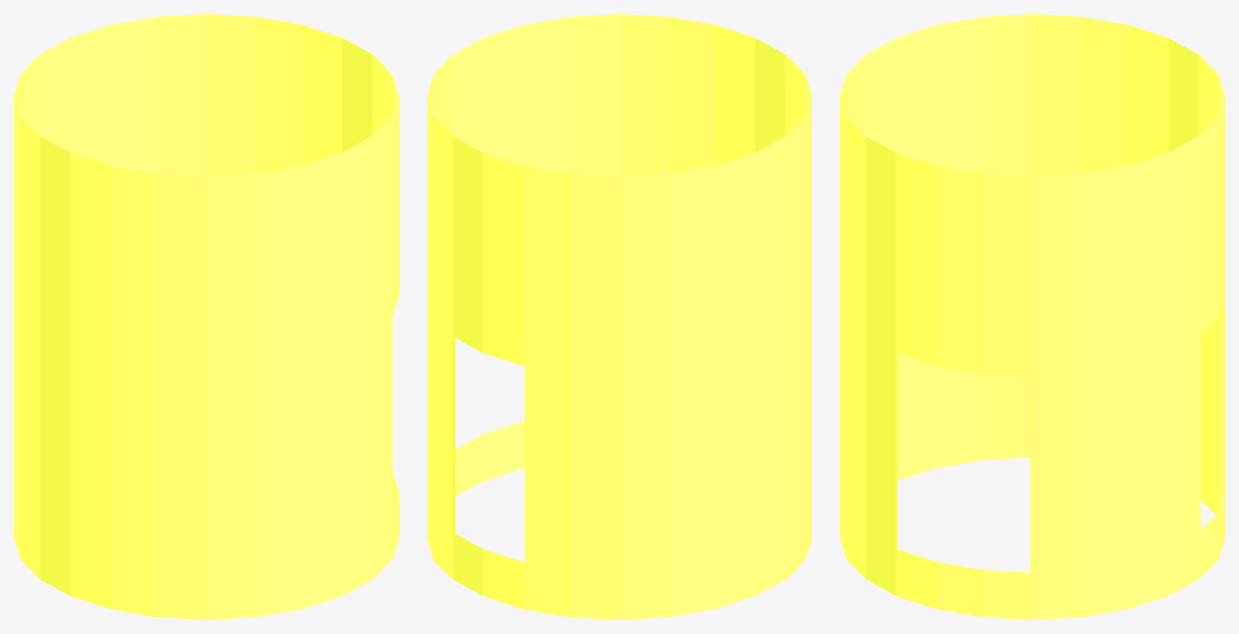
Rendered from Bedaux_1_Bedaux_Stijgerdoek_1.FBX.
3 views of the same model, side by side, from view 1: azimuth 30°, elevation 25°; view 2: azimuth 150°, elevation 25°; view 3: azimuth 270°, elevation 25° (orthographic).
Parts seen in each view (by area): view 1: Bedaux_1_Bedaux_Stijgerdoek_1; view 2: Bedaux_1_Bedaux_Stijgerdoek_1; view 3: Bedaux_1_Bedaux_Stijgerdoek_1.
Boxes of the visible parts, x1,y1,x2,y2 form: Bedaux_1_Bedaux_Stijgerdoek_1: [14, 14, 398, 619]; Bedaux_1_Bedaux_Stijgerdoek_1: [427, 14, 811, 619]; Bedaux_1_Bedaux_Stijgerdoek_1: [840, 14, 1224, 619].
Bounding box in the file's own units: 421 × 421 × 535.
